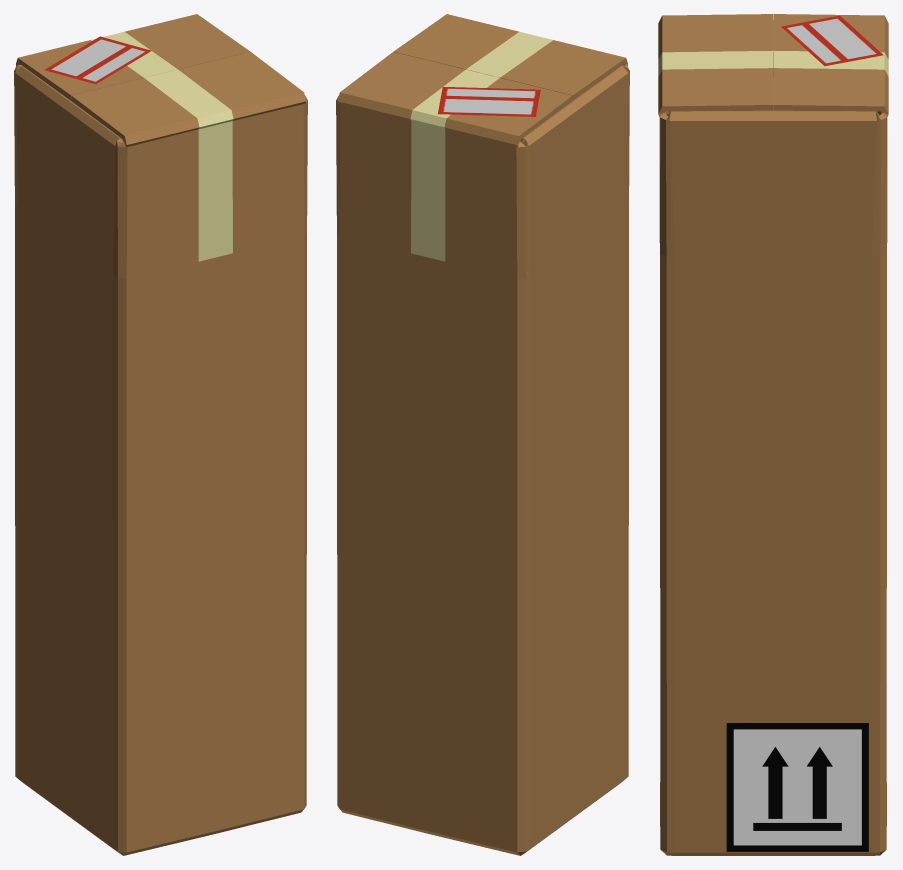
Rendered from Cardboard.022.gltf.
3 views of the same model, side by side, from view 1: azimuth 30°, elevation 25°; view 2: azimuth 150°, elevation 25°; view 3: azimuth 270°, elevation 25° (orthographic). The views are drawn at different scales.
Parts seen in each view (by area): view 1: Cardboard.022, RedSticker.013; view 2: Cardboard.022, RedSticker.013; view 3: Cardboard.022, sign2.016, RedSticker.013.
Part boxes in pixels (left/top/right/bottom): Cardboard.022: left=14, top=14, right=307, bottom=855; RedSticker.013: left=44, top=36, right=151, bottom=84; Cardboard.022: left=336, top=14, right=629, bottom=855; RedSticker.013: left=438, top=86, right=540, bottom=116; Cardboard.022: left=658, top=14, right=888, bottom=855; sign2.016: left=726, top=723, right=868, bottom=851; RedSticker.013: left=781, top=15, right=883, bottom=66.
Size of the model in its own units: 0.2737 by 0.9882 by 0.2739.
Materials: 4 (2 with a texture image).
